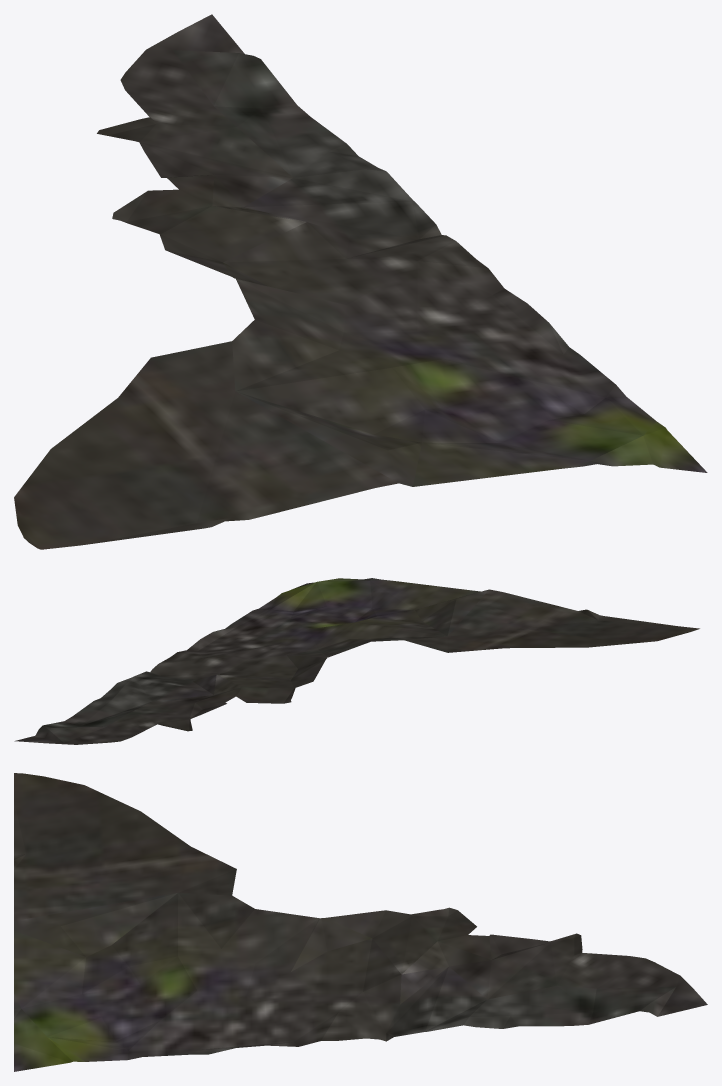
3 views of the same model, one above another, from view 1: azimuth 30°, elevation 25°; view 2: azimuth 150°, elevation 25°; view 3: azimuth 270°, elevation 25° (orthographic). The views are drawn at different scales.
Size of the model in its own units: 0.3655 by 0.0493 by 0.4624.
1 material, 1 textured.
